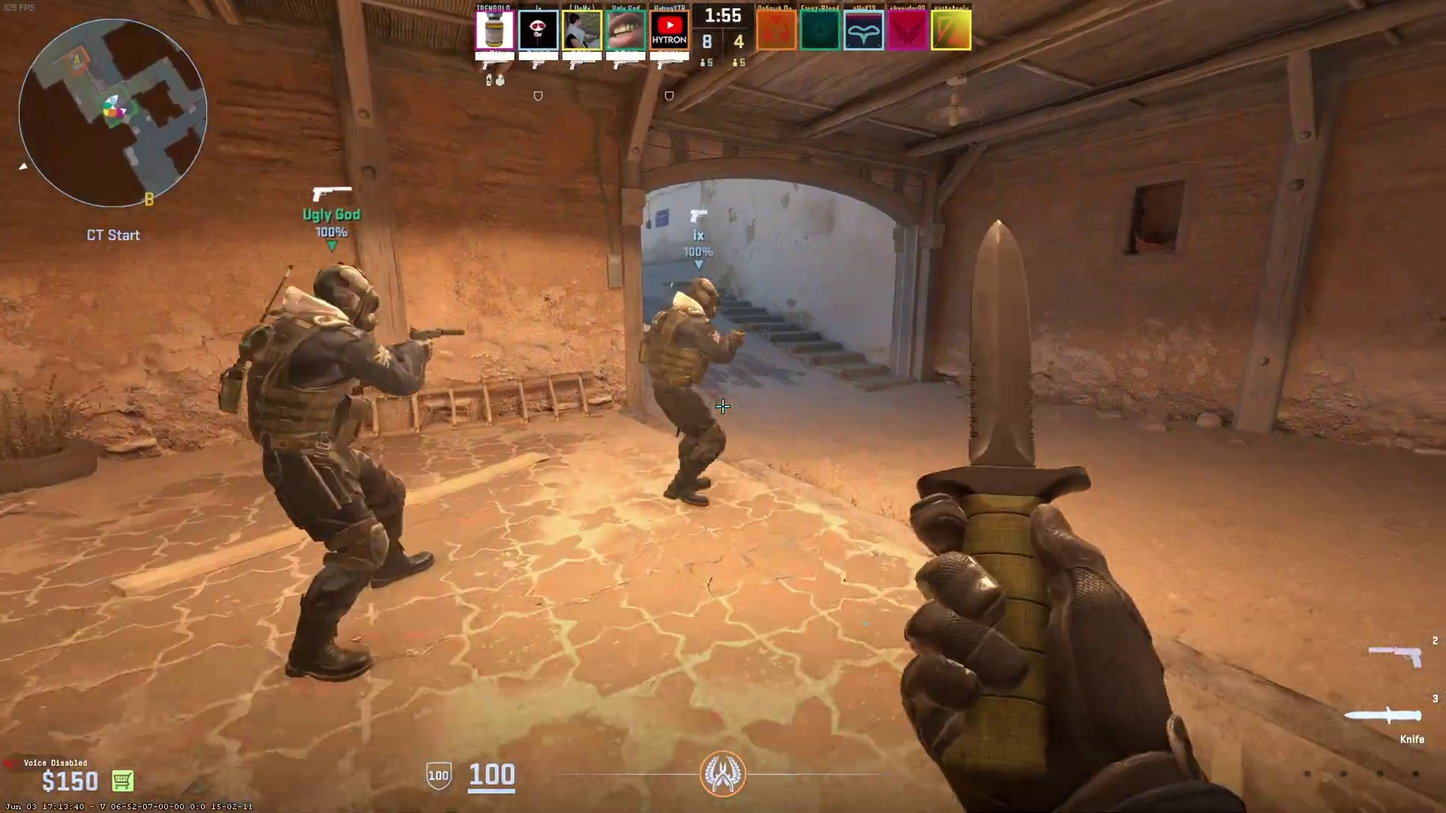CT: (259, 264, 432, 678), (650, 276, 727, 506)
